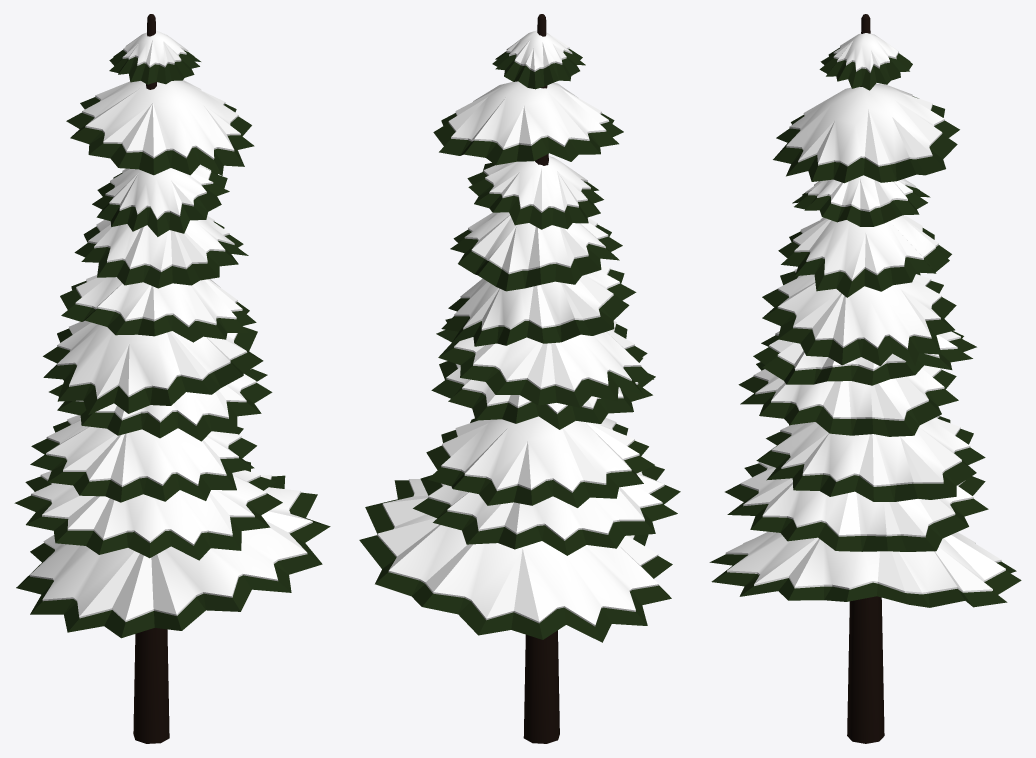
Rendered from s_tree_005.FBX.
3 renders of one model, left to right at view 1: azimuth 30°, elevation 25°; view 2: azimuth 150°, elevation 25°; view 3: azimuth 270°, elevation 25°, orthographic.
Visible parts, largest first — view 1: s_tree_leaves_005 (×2); view 2: s_tree_leaves_005 (×2); view 3: s_tree_leaves_005 (×2).
Boxes of the visible parts, x1=… form: s_tree_leaves_005 (×2): x1=14, y1=14, x2=330, y2=743; s_tree_leaves_005 (×2): x1=359, y1=14, x2=680, y2=743; s_tree_leaves_005 (×2): x1=709, y1=14, x2=1021, y2=743.
Bounding box in the file's own units: 1.71 × 4.26 × 1.67.
